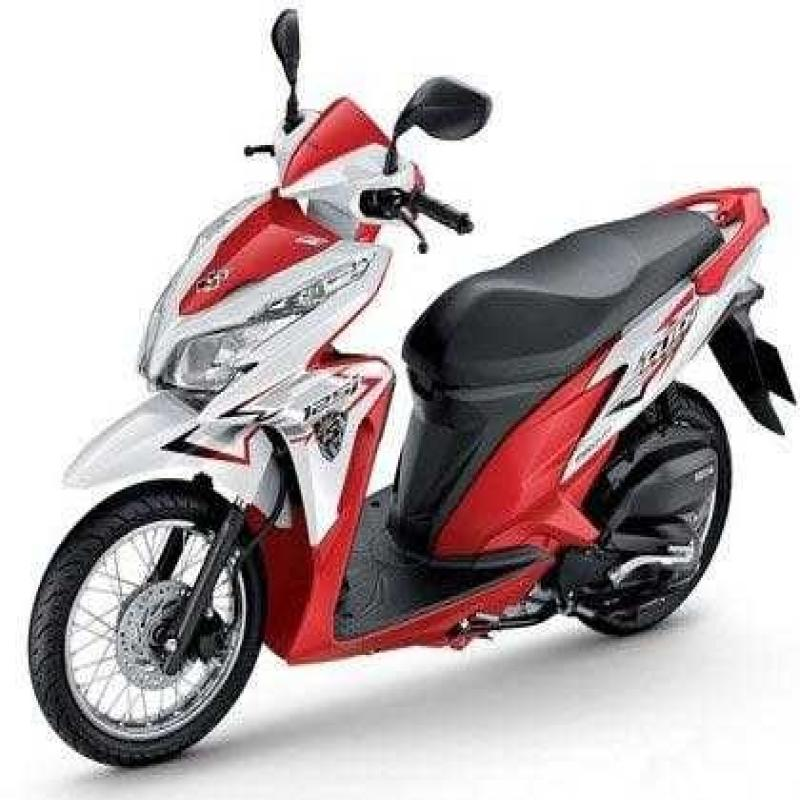bike: (29, 8, 783, 800)
